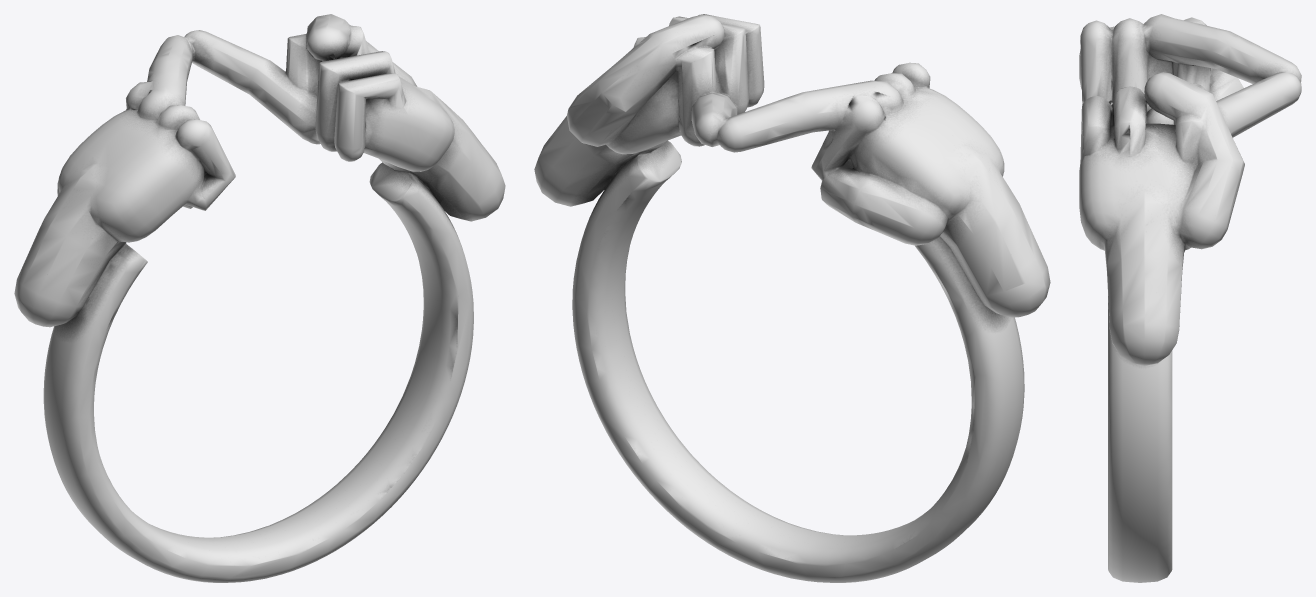
Rendered from Anillo_Manitas.fbx.
3 renders of one model, left to right at view 1: azimuth 30°, elevation 25°; view 2: azimuth 150°, elevation 25°; view 3: azimuth 270°, elevation 25°, orthographic. The views are drawn at different scales.
Parts seen in each view (by area): view 1: Anillo_Manitas; view 2: Anillo_Manitas; view 3: Anillo_Manitas.
Part boxes in pixels (x1,y1,x2,y2): Anillo_Manitas: (14, 14, 505, 582); Anillo_Manitas: (534, 14, 1050, 582); Anillo_Manitas: (1079, 14, 1301, 582).
Size of the model in its own units: 0.025 by 0.0256 by 0.00986.
1 material, 1 textured.
